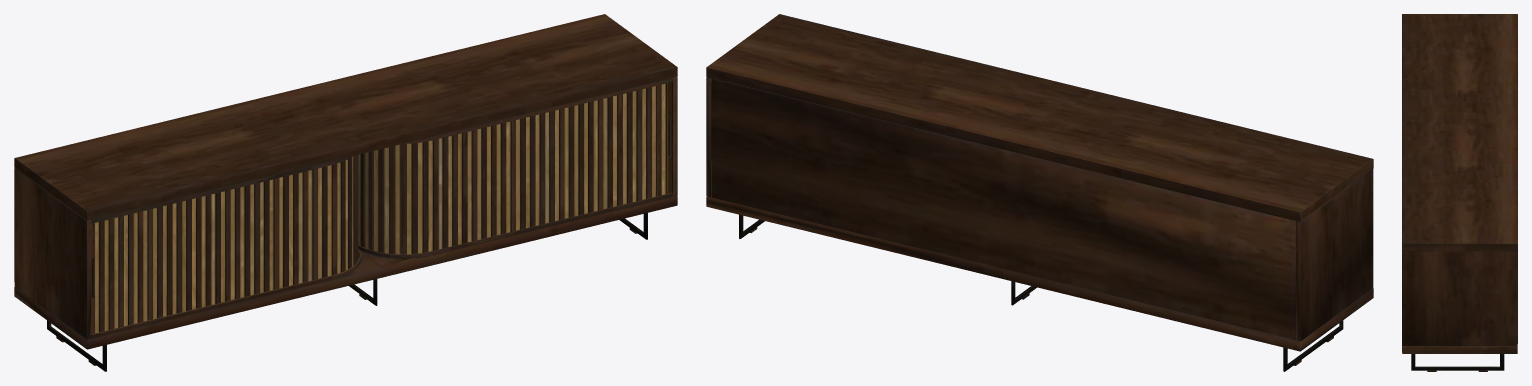
File: modern_wooden_cabinet.glb
3 renders of one model, left to right at view 1: azimuth 30°, elevation 25°; view 2: azimuth 150°, elevation 25°; view 3: azimuth 270°, elevation 25°, orthographic. The views are drawn at different scales.
Parts seen in each view (by area): view 1: modern_wooden_cabinet_body, modern_wooden_cabinet_door_l; view 2: modern_wooden_cabinet_body; view 3: modern_wooden_cabinet_body.
Boxes of the visible parts, bbox=[...] form: modern_wooden_cabinet_body: bbox=[14, 14, 677, 371]; modern_wooden_cabinet_door_l: bbox=[91, 82, 671, 334]; modern_wooden_cabinet_body: bbox=[706, 14, 1373, 371]; modern_wooden_cabinet_body: bbox=[1402, 14, 1517, 371].
Size of the model in its own units: 2.44 by 0.6801 by 0.5201.
1 material, 1 textured.
